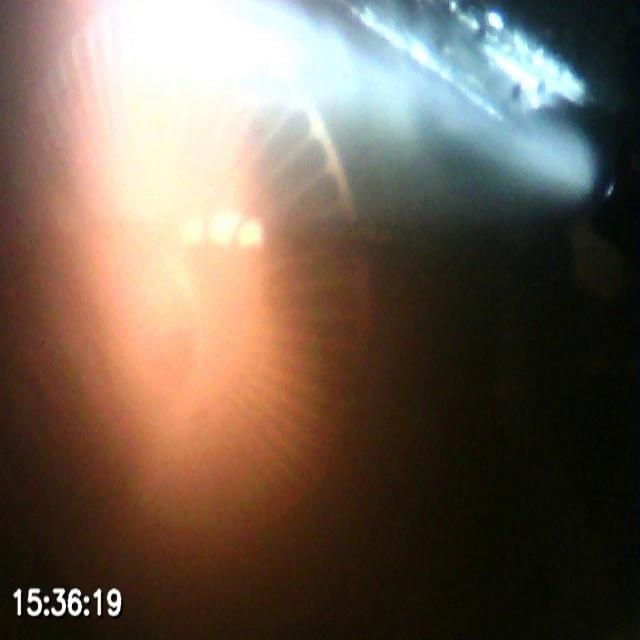white-dots: (182, 204, 265, 250)
